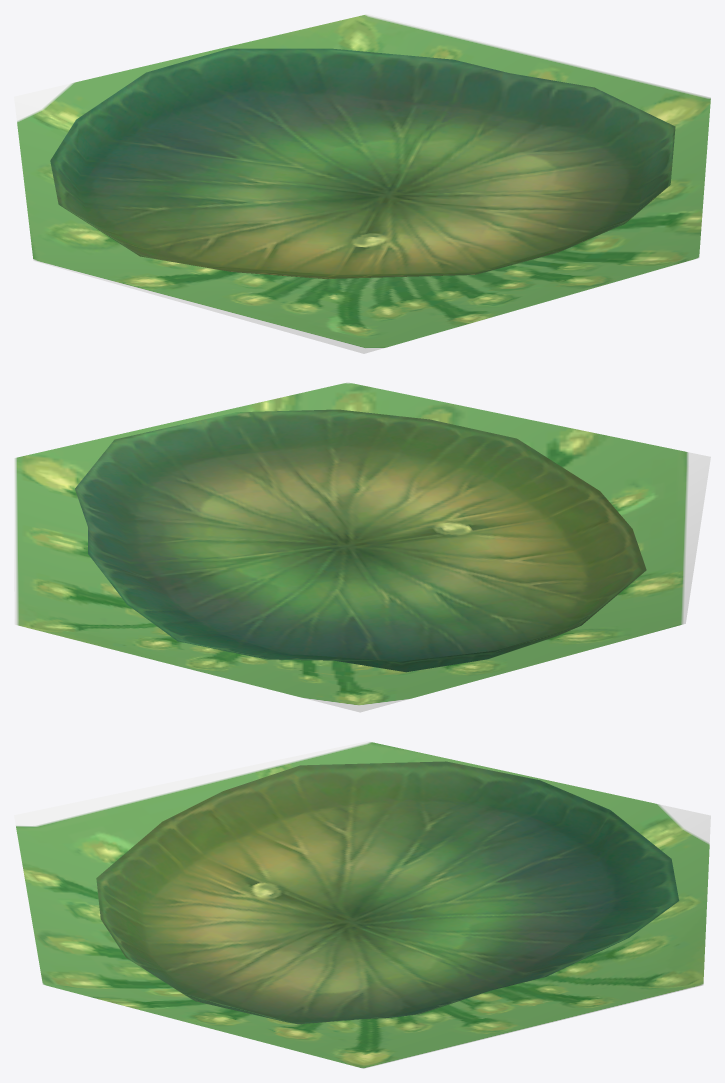
File: Map_07_grass17.FBX
3 renders of one model, top to bottom at view 1: azimuth 30°, elevation 25°; view 2: azimuth 150°, elevation 25°; view 3: azimuth 270°, elevation 25°, orthographic.
Visible parts, largest first — view 1: Map_07_grass17a, Map_07_grass17b; view 2: Map_07_grass17a, Map_07_grass17b; view 3: Map_07_grass17a, Map_07_grass17b.
Part boxes in pixels (x1,y1,x2,y2): Map_07_grass17a: (50, 48, 675, 278); Map_07_grass17b: (14, 14, 710, 353); Map_07_grass17a: (75, 409, 646, 672); Map_07_grass17b: (14, 382, 710, 712); Map_07_grass17a: (96, 761, 679, 1024); Map_07_grass17b: (14, 741, 710, 1068).
Size of the model in its own units: 172 by 13.72 by 155.
Materials: 2 (2 with a texture image).
